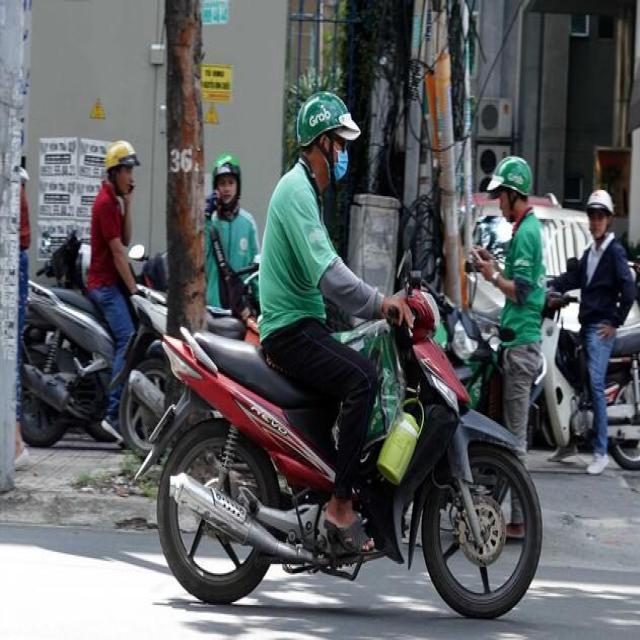1-2-helmet: (296, 91, 363, 148)
